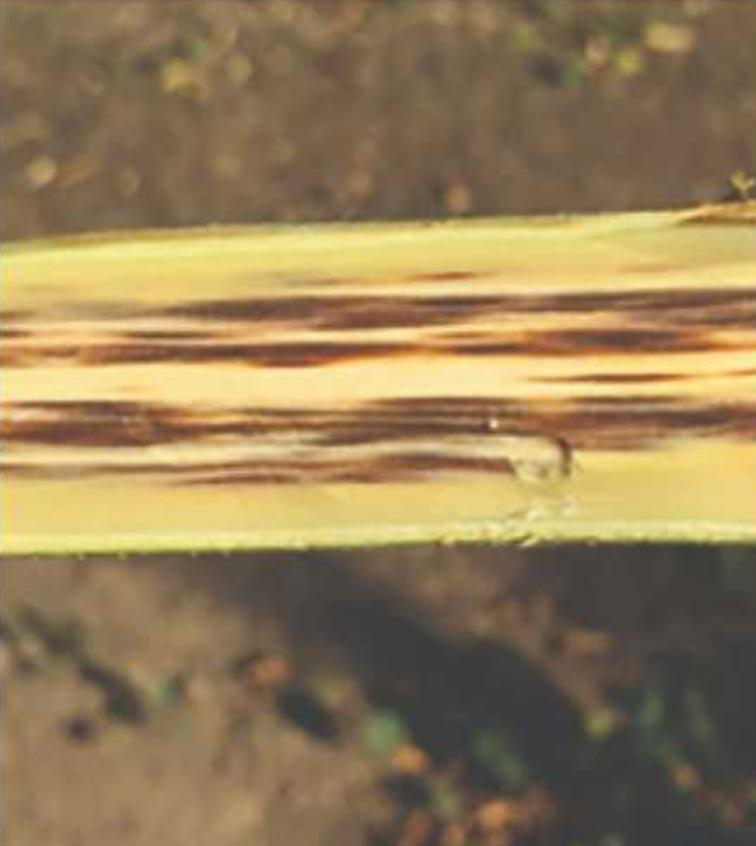Verticillium wilt: (3, 288, 755, 368)
